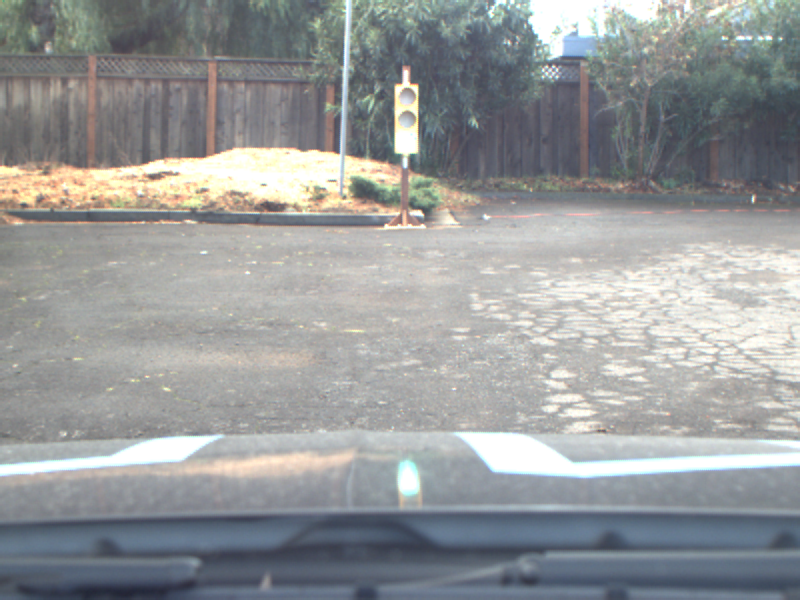Green: (394, 84, 417, 155)
